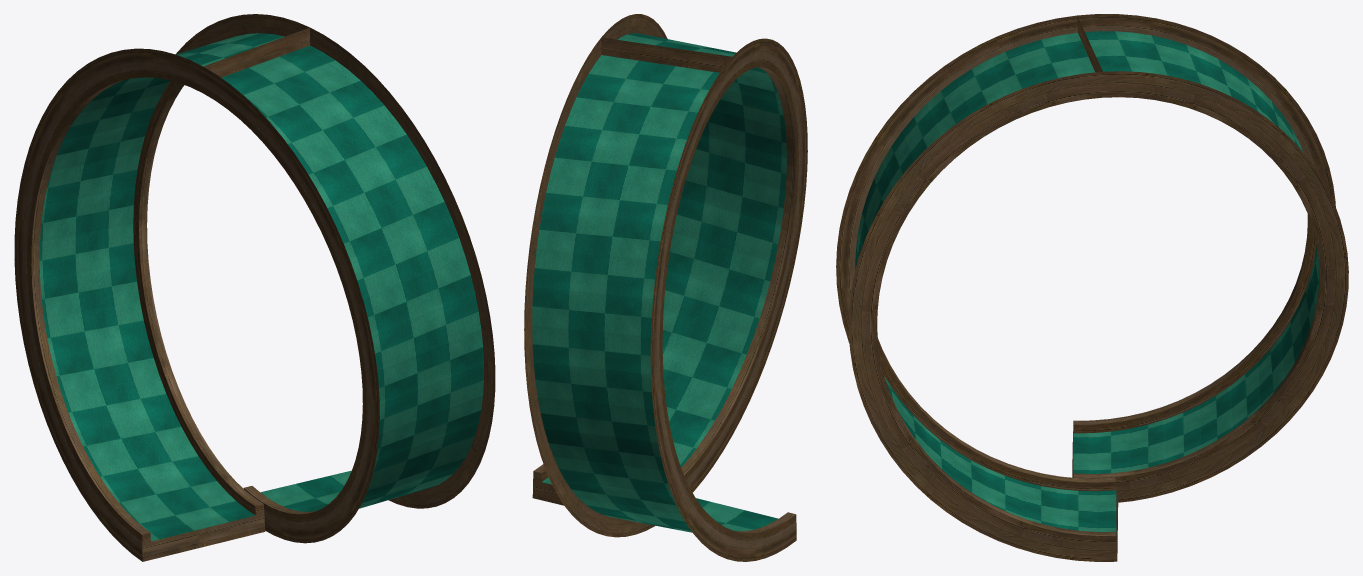
The model's file is PartCoaster.gltf.
3 renders of one model, left to right at view 1: azimuth 30°, elevation 25°; view 2: azimuth 150°, elevation 25°; view 3: azimuth 270°, elevation 25°, orthographic. The views are drawn at different scales.
Parts seen in each view (by area): view 1: PartBig2Coaster_glb; view 2: PartBig2Coaster_glb; view 3: PartBig2Coaster_glb.
Part boxes in pixels (bbox=[...]): PartBig2Coaster_glb: bbox=[14, 14, 495, 561]; PartBig2Coaster_glb: bbox=[524, 14, 807, 561]; PartBig2Coaster_glb: bbox=[836, 14, 1348, 561].
Size of what is drawn, in the model's own units: 7.16 by 13.3 by 13.41.
Materials: 2 (2 with a texture image).
